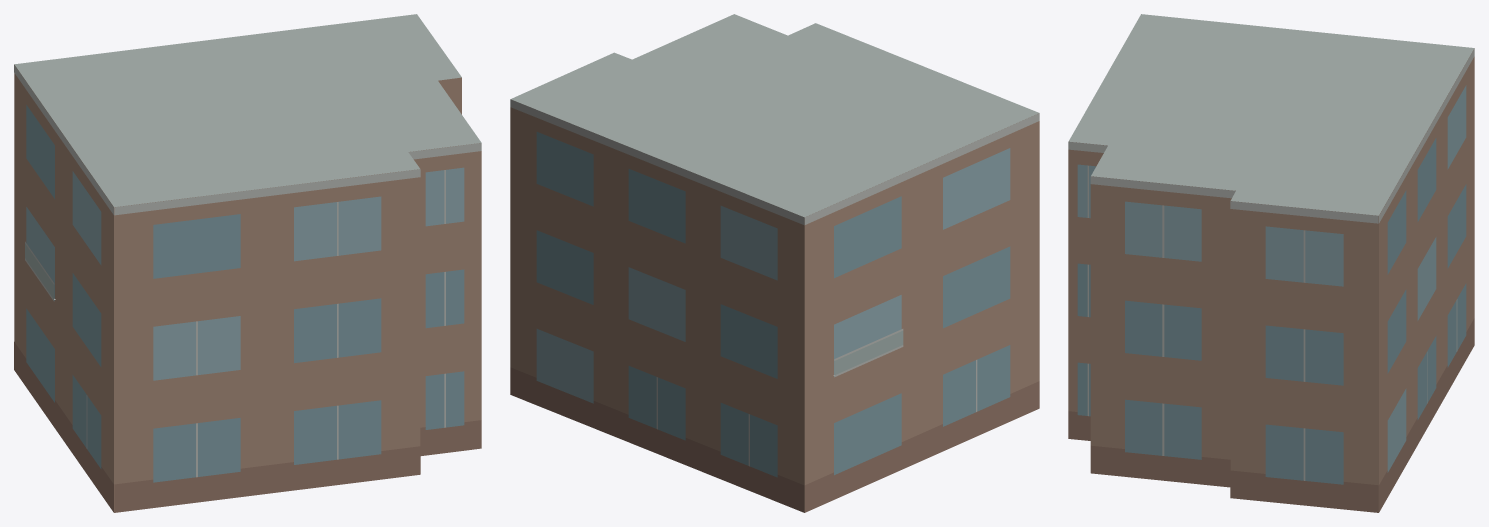
Rendered from survey-upis-32993295.glb.
3 renders of one model, left to right at view 1: azimuth 30°, elevation 25°; view 2: azimuth 150°, elevation 25°; view 3: azimuth 270°, elevation 25°, orthographic. The views are drawn at different scales.
Visible parts, largest first — view 1: survey-upis-32993295.tmp; view 2: survey-upis-32993295.tmp; view 3: survey-upis-32993295.tmp.
Boxes of the visible parts, bbox=[...] form: survey-upis-32993295.tmp: bbox=[14, 14, 481, 512]; survey-upis-32993295.tmp: bbox=[510, 14, 1039, 512]; survey-upis-32993295.tmp: bbox=[1068, 14, 1474, 512].
Bounding box in the file's own units: 13.26 × 9.1 × 11.28.
